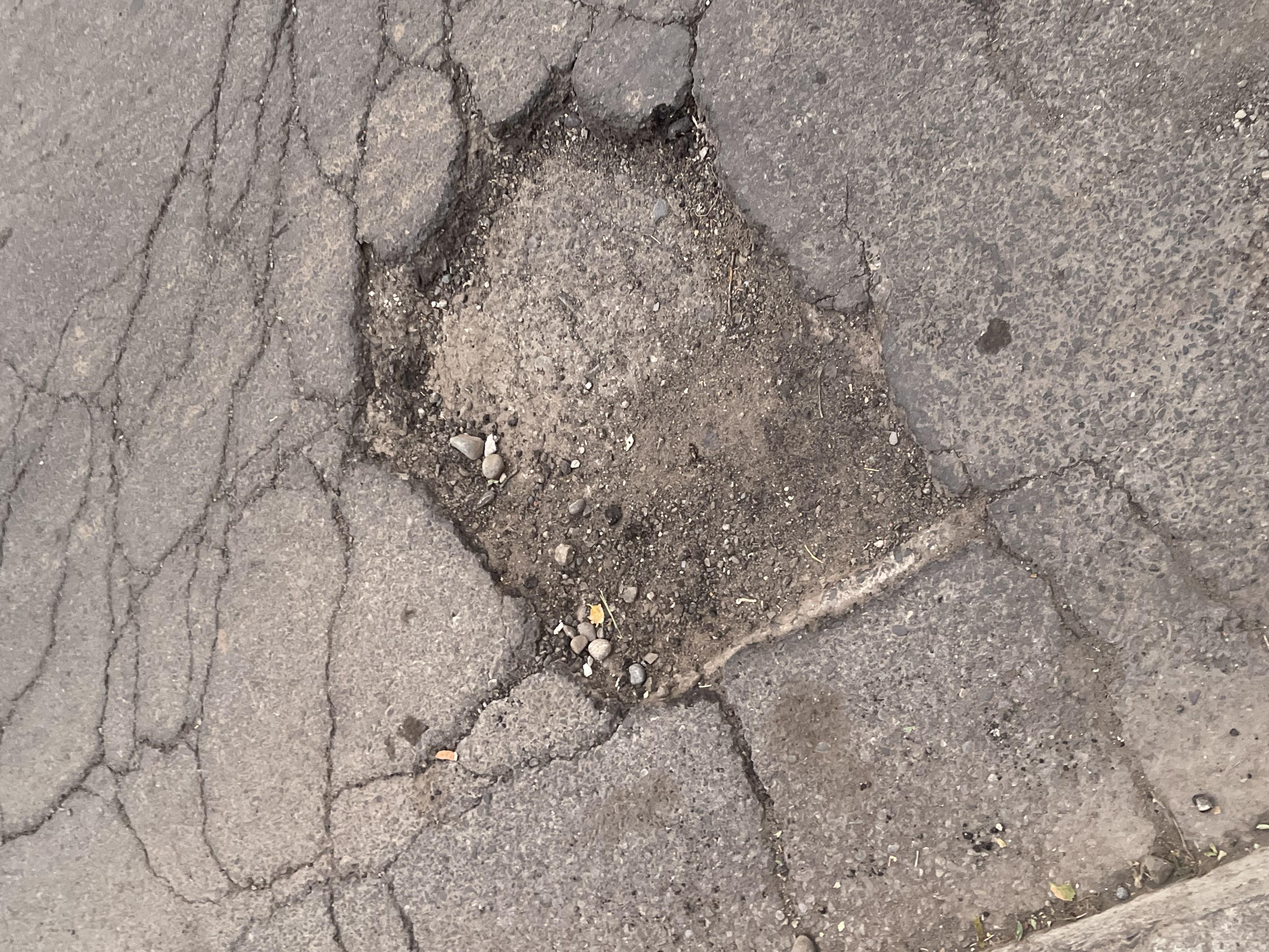BACHE: (353, 87, 969, 703)
PIEL DE COCODRILO: (0, 0, 1269, 952)
